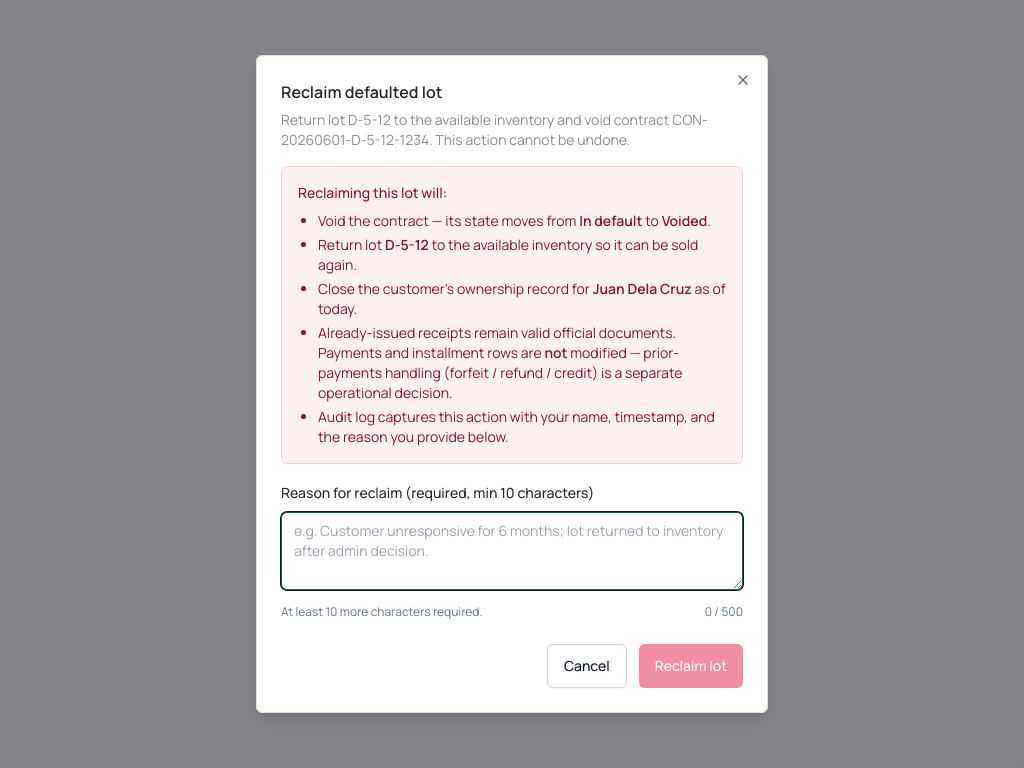
ReclaimLotDialog › disables the confirm button until the reason is at least 10 chars after trim
Expected: the button with test id "reclaim-lot-confirm" is disabled, [639,644,743,688]
In the text box with test id "reclaim-lot-reason": [512, 551] box [281,512,743,590], type "too short"
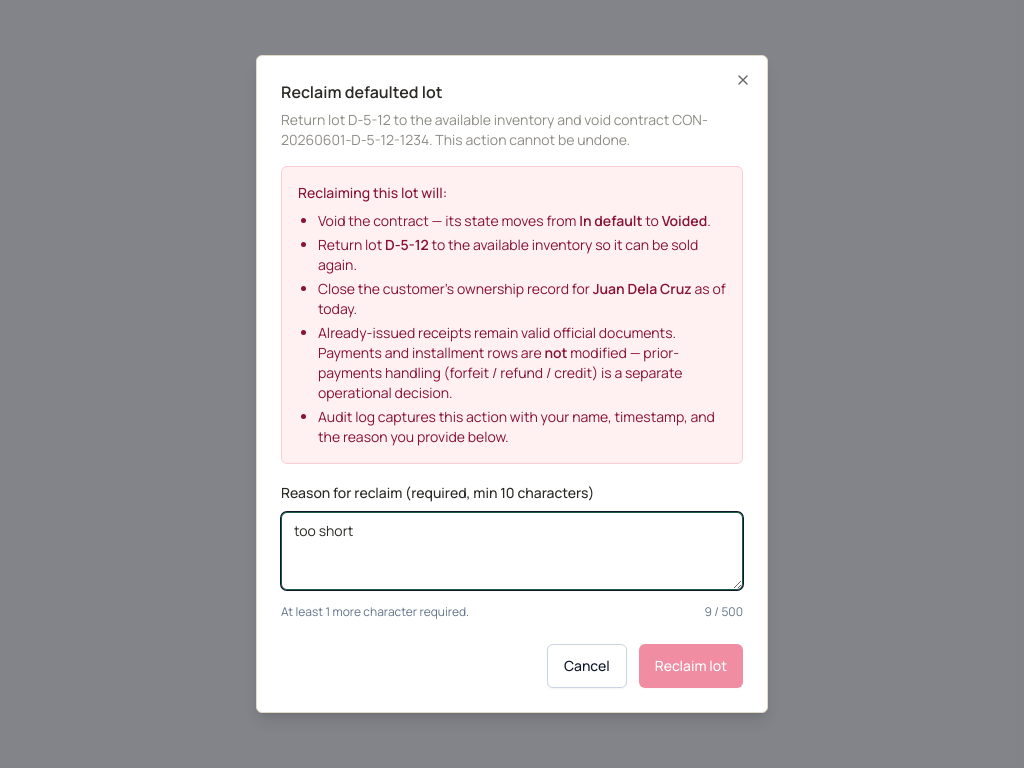
Expected: the button with test id "reclaim-lot-confirm" is disabled, [639,644,743,688]
In the text box with test id "reclaim-lot-reason": [512, 551] box [281,512,743,590], type " — and now enough"
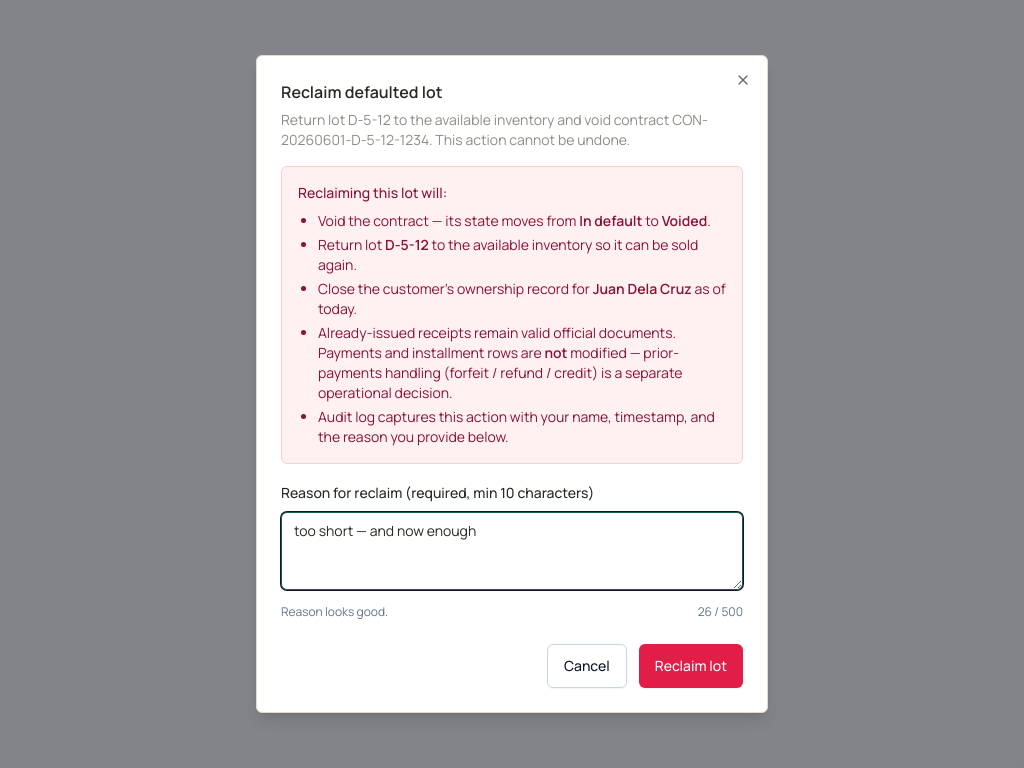
Expected: the button with test id "reclaim-lot-confirm" is enabled, [639,644,743,688]
